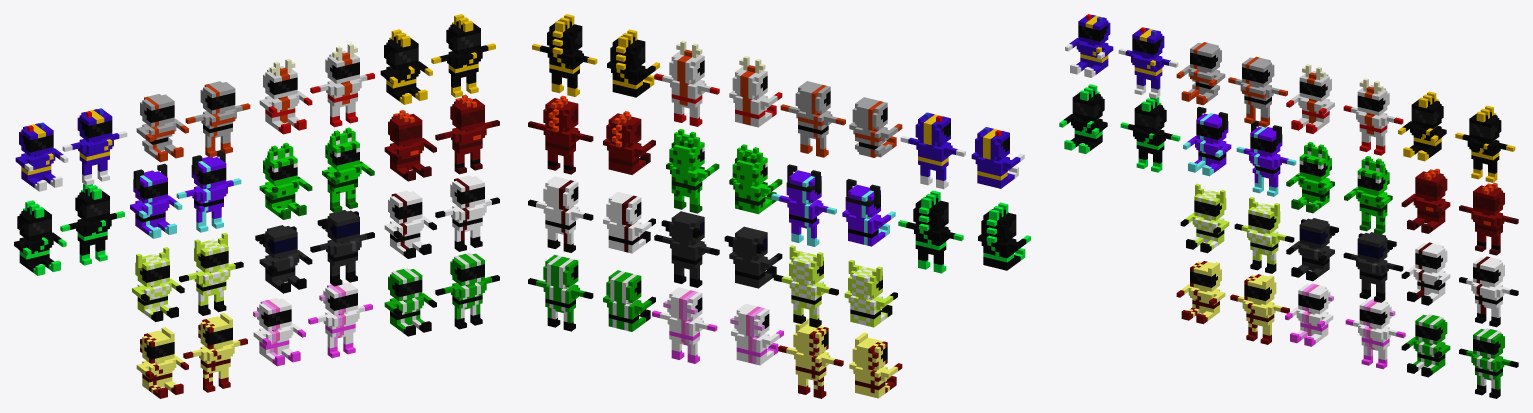
The model's file is drivers.obj.
The picture shows the model from 3 angles, left to right: view 1: azimuth 30°, elevation 25°; view 2: azimuth 150°, elevation 25°; view 3: azimuth 330°, elevation 25°; orthographic projection. The views are drawn at different scales.
Bounding box in the file's own units: 12.4 × 7.7 × 1.3.
Materials: 1 (1 with a texture image).
